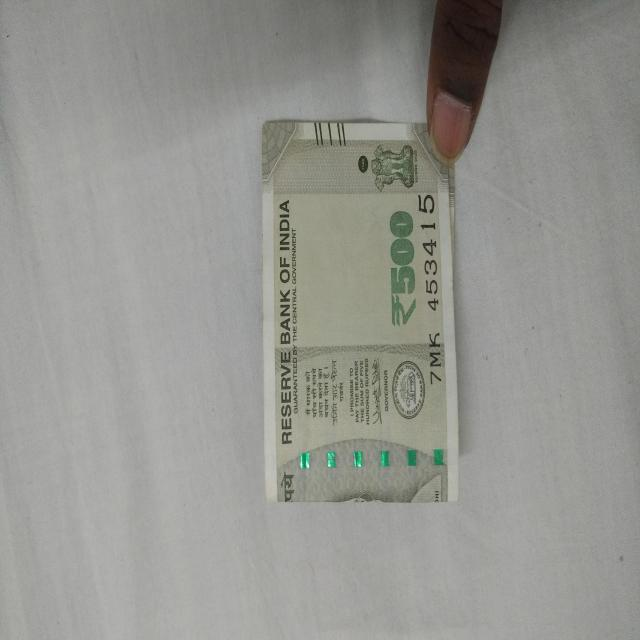Currency: (254, 139, 453, 536)
